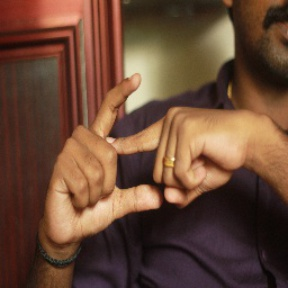E: (87, 71, 193, 218)
